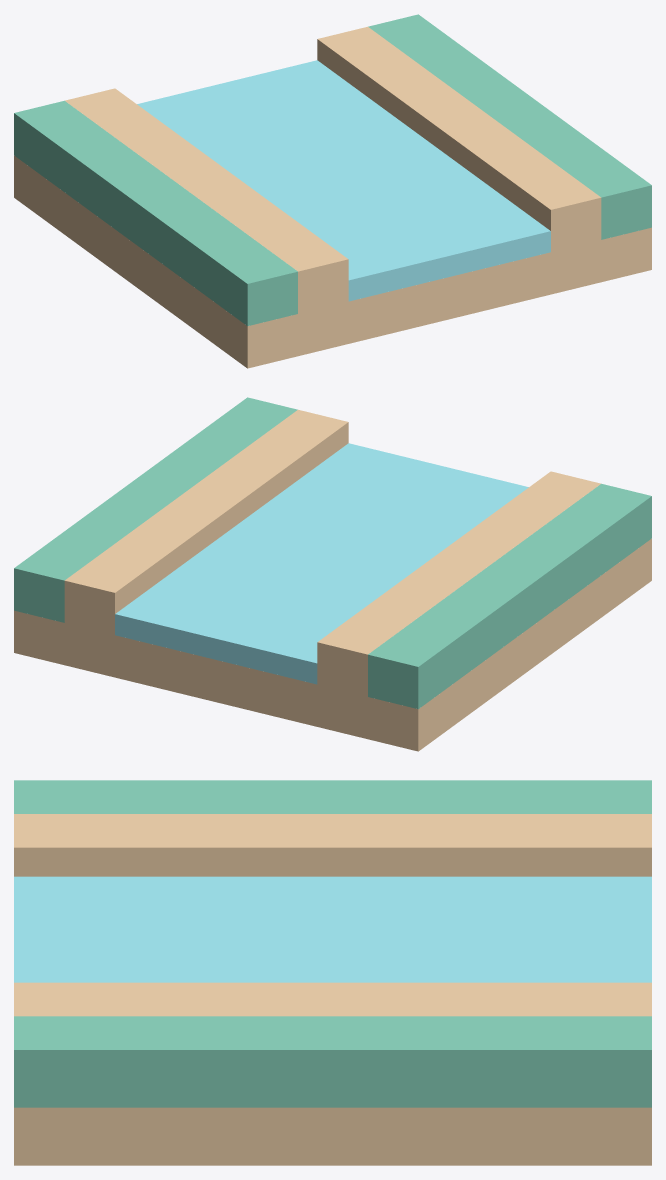
Rendered from tile_riverStraight.glb.
3 views of the same model, one above another, from view 1: azimuth 30°, elevation 25°; view 2: azimuth 150°, elevation 25°; view 3: azimuth 270°, elevation 25° (orthographic). The views are drawn at different scales.
Parts seen in each view (by area): view 1: tile_riverStraight; view 2: tile_riverStraight; view 3: tile_riverStraight.
Part boxes in pixels (<box>): tile_riverStraight: <box>14,14,651,368</box>; tile_riverStraight: <box>14,397,651,751</box>; tile_riverStraight: <box>14,780,651,1165</box>.
Bounding box in the file's own units: 1 × 0.2 × 1.
